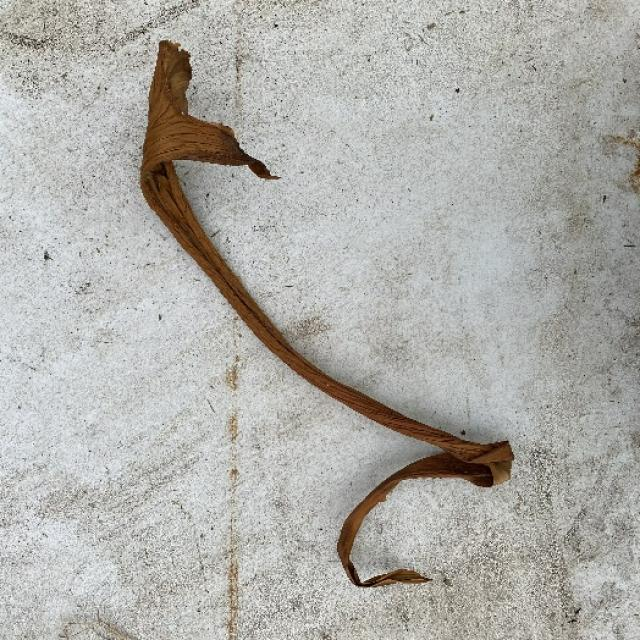organik: (128, 29, 518, 590)
